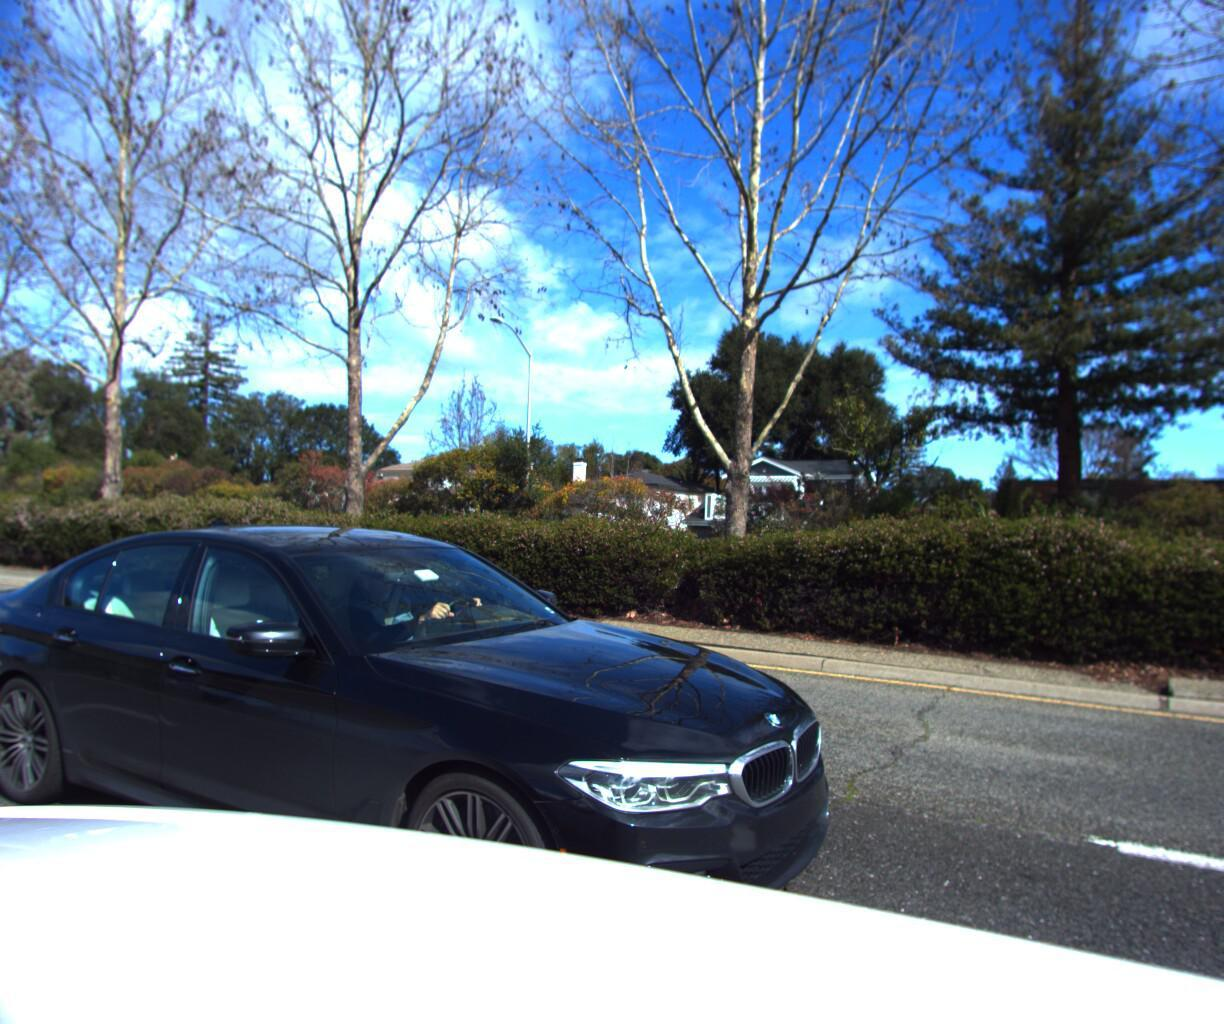car: (0, 473, 873, 1014)
